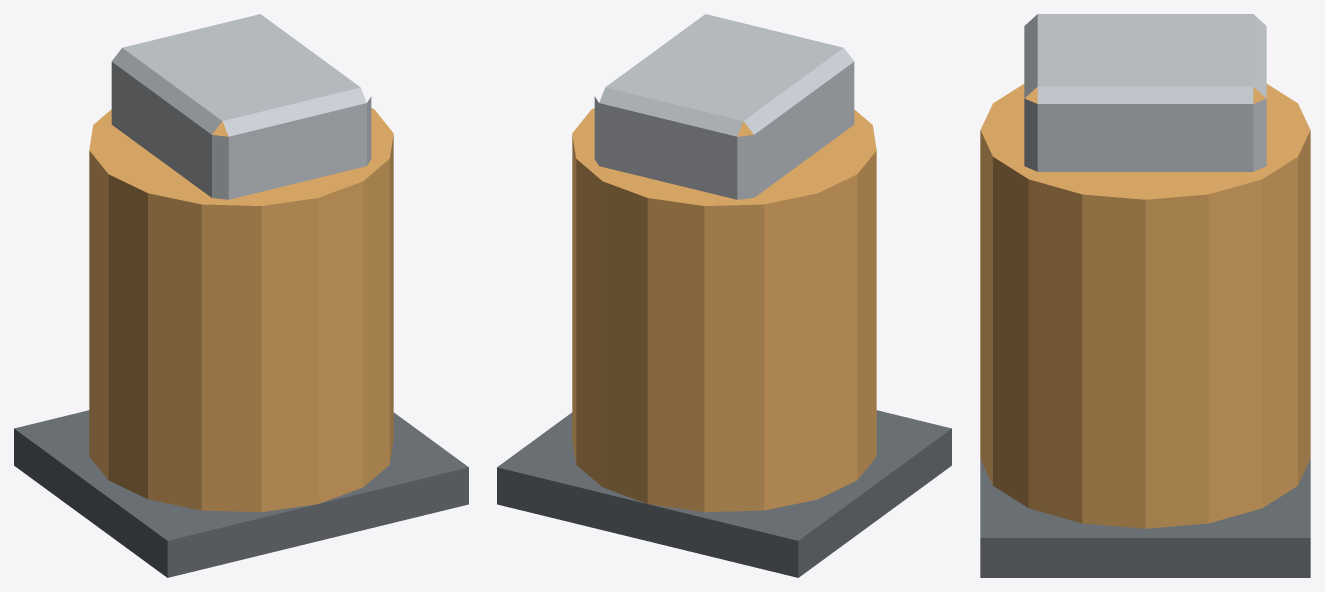
File: compressor_tank.glb
3 views of the same model, side by side, from view 1: azimuth 30°, elevation 25°; view 2: azimuth 150°, elevation 25°; view 3: azimuth 270°, elevation 25° (orthographic). The views are drawn at different scales.
Parts seen in each view (by area): view 1: HousingAccent, MetalBody, ErgonomicGrip; view 2: HousingAccent, MetalBody, ErgonomicGrip; view 3: HousingAccent, MetalBody, ErgonomicGrip.
Part boxes in pixels (box(x1,y1,x2,y2)): HousingAccent: box(89, 108, 393, 512); MetalBody: box(111, 14, 371, 199); ErgonomicGrip: box(14, 410, 468, 577); HousingAccent: box(572, 108, 876, 512); MetalBody: box(594, 14, 854, 199); ErgonomicGrip: box(497, 410, 951, 577); HousingAccent: box(980, 84, 1310, 528); MetalBody: box(1024, 14, 1266, 171); ErgonomicGrip: box(980, 459, 1310, 577).
Bounding box in the file's own units: 0.34 × 0.45 × 0.3.
